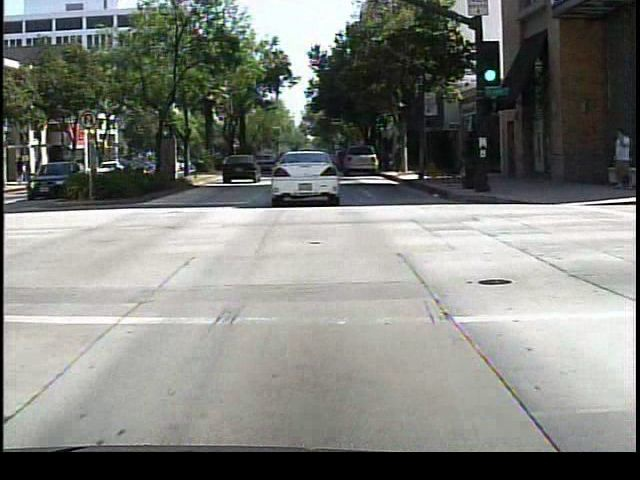person: (606, 123, 629, 196), (15, 152, 32, 187)
